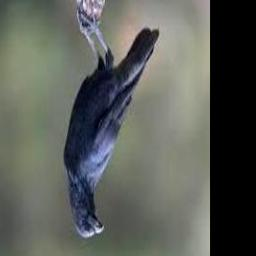Crow: (63, 22, 160, 239)
